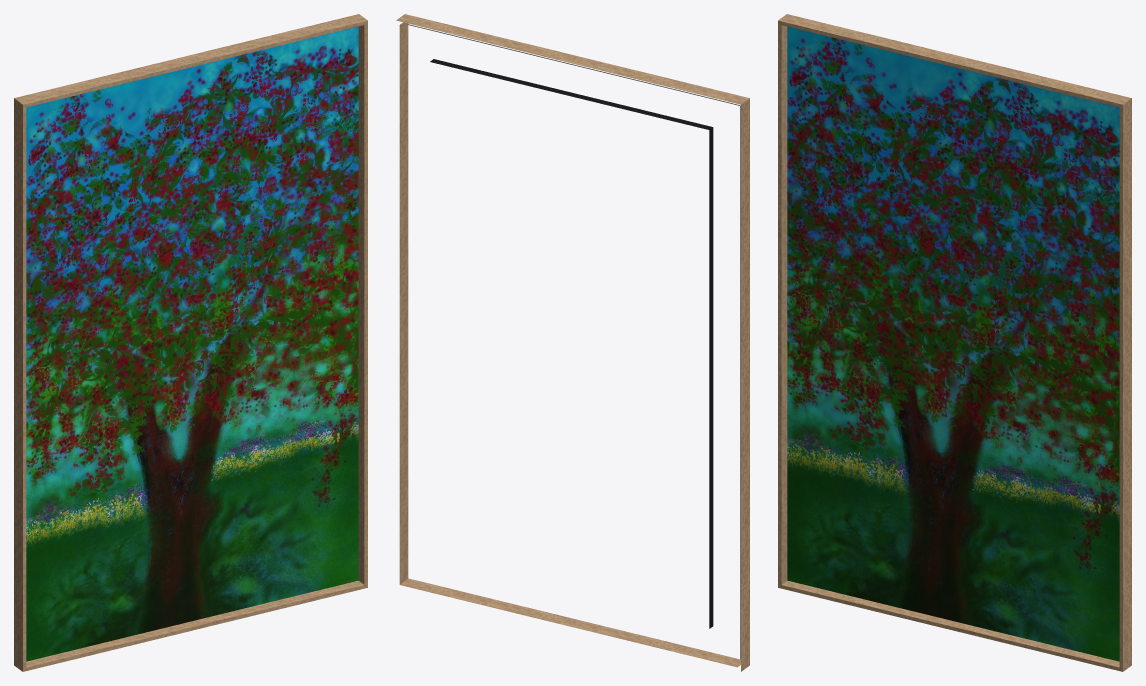
Rendered from os006_grand_caisse-chene.glb.
The picture shows the model from 3 angles, left to right: view 1: azimuth 30°, elevation 25°; view 2: azimuth 150°, elevation 25°; view 3: azimuth 330°, elevation 25°; orthographic projection.
Parts seen in each view (by area): view 1: os006_grand_caisse-chene; view 2: os006_grand_caisse-chene; view 3: os006_grand_caisse-chene.
Part boxes in pixels (<box>): os006_grand_caisse-chene: <box>14,14,367,671</box>; os006_grand_caisse-chene: <box>396,14,749,671</box>; os006_grand_caisse-chene: <box>778,14,1131,671</box>.
Size of the model in its own units: 0.7817 by 1.23 by 0.035.
4 materials, 2 textured.
